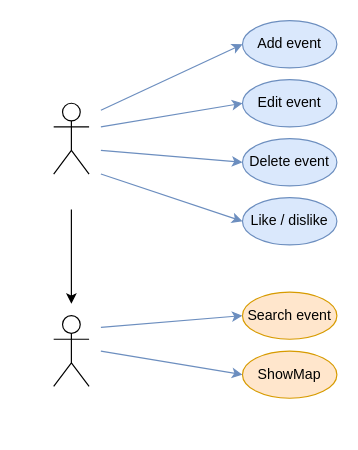
This 358x450 diagram has some shape labels left out. Here are the shapes that lost their labels. From the top down, the centre of each, then its label:
At point (71, 138): "Singed in user".
At point (71, 350): "Logged out user".
